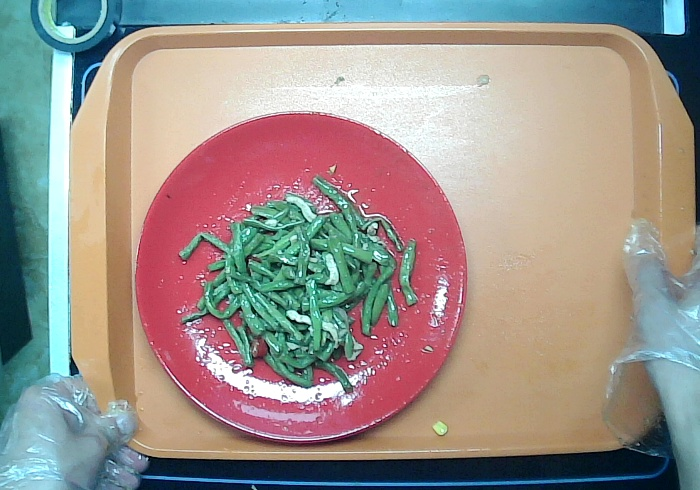HZYJPL-Hong_Se_Yuan_Pan: (133, 108, 468, 445)
